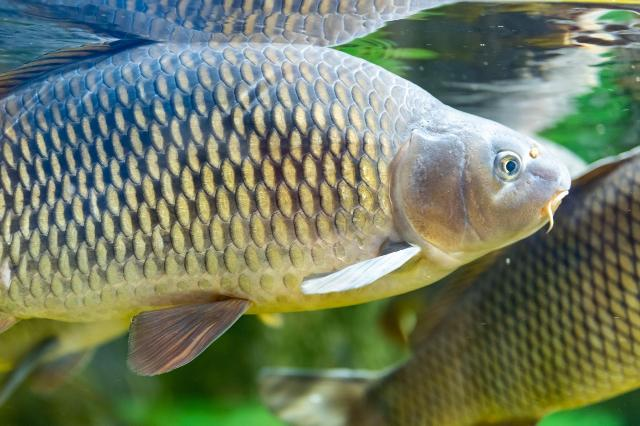Mulut: (528, 132, 590, 238)
Sirip Dada: (292, 229, 440, 318)
Sirip Perut: (110, 291, 264, 385)
Sirip Punggung: (0, 29, 180, 111)
